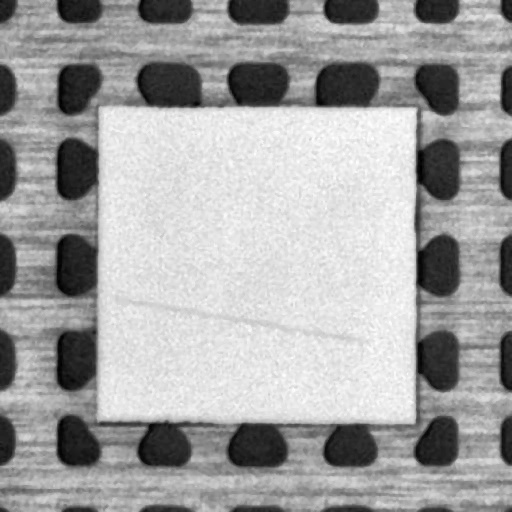DIE_CRACK: (111, 298, 366, 341)
